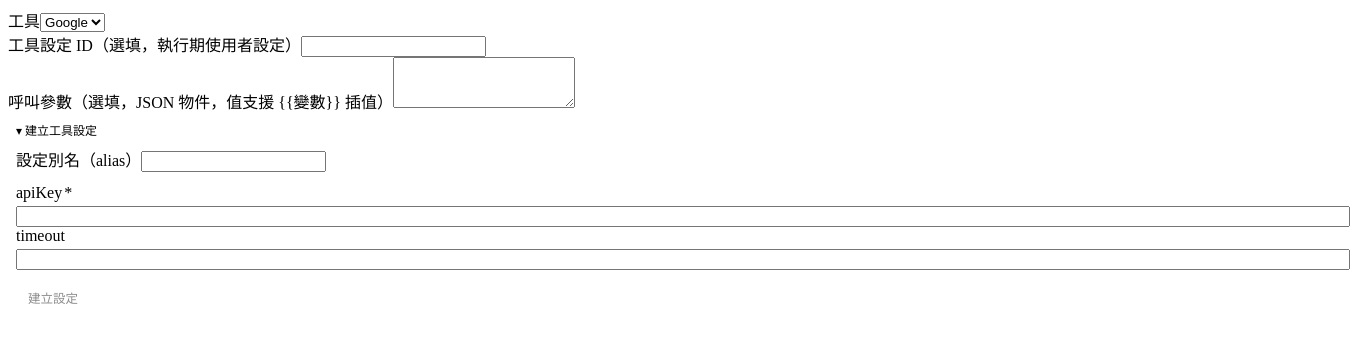
ToolForm › 工具設定建立區塊 › API 失敗時顯示錯誤文字且不清空使用者輸入
Type "my-alias" into the field with test id "setting-alias".
click(234, 162); type("my-alias")  # box [141,151,326,172]
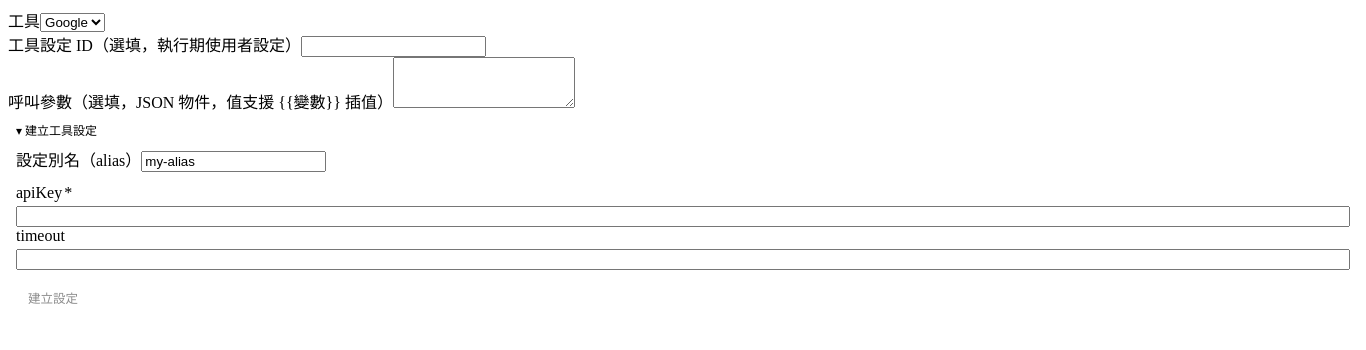
Type "sk-xxx" into the password field with test id "field-apiKey".
click(683, 216); type("sk-xxx")  # box [16,206,1350,227]
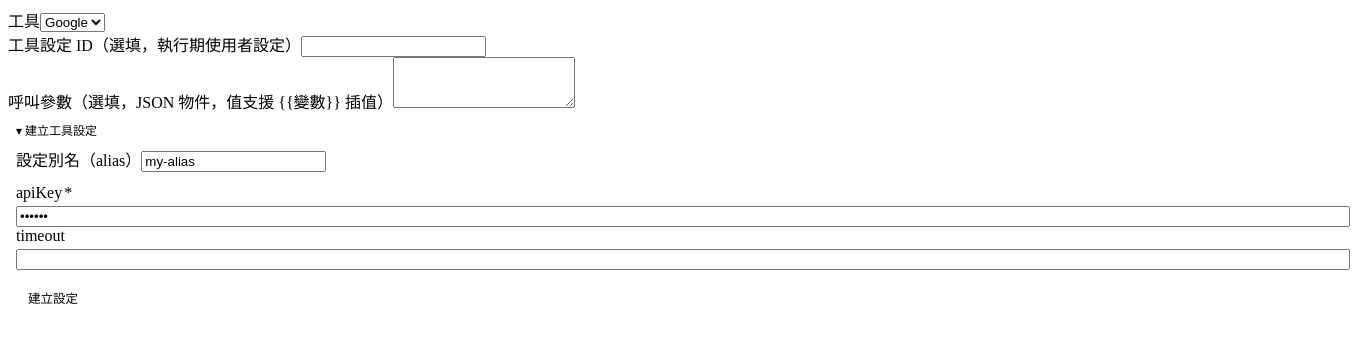
Click the button with test id "setting-create".
click(53, 298)  # box [16,282,90,313]
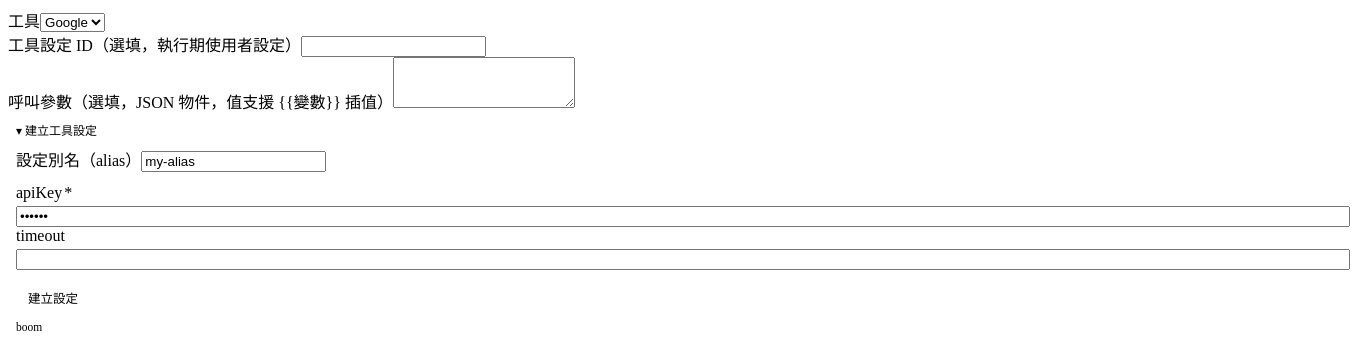
Result: the text "boom" is shown at [16,321,42,333]
